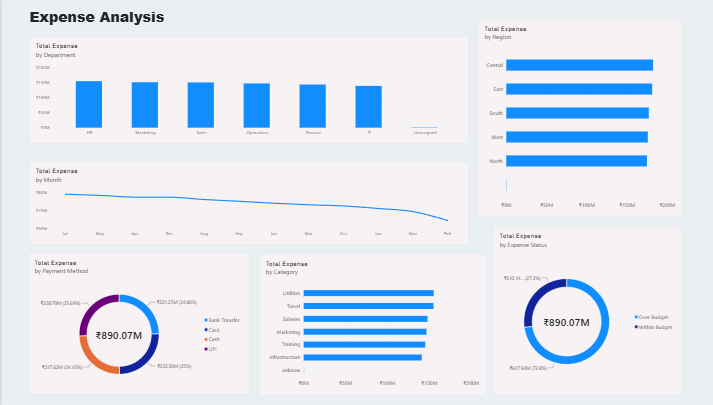

Layout of this report page (visuals, bound fields, positions):
{"tool":"powerbi","page":{"name":"Page 2","canvas":[1900,1080],"ordinal":1},"visuals":[{"type":"textbox","box":[10.3,0,279.9,98.8],"z":0},{"type":"textbox","box":[74,18,1846,154],"z":1000},{"type":"barChart","fields":{"Category":["Financial_Expenses.Category"],"Y":["Financial_Expenses.Total Expense"]},"box":[688,676,604,378],"z":2000},{"type":"columnChart","fields":{"Category":["Financial_Expenses.Department"],"Y":["Financial_Expenses.Total Expense"]},"box":[74,96,1170,286],"z":3000},{"type":"barChart","fields":{"Category":["Financial_Expenses.Region"],"Y":["Financial_Expenses.Total Expense"]},"box":[1270,50,544,530],"z":4000},{"type":"donutChart","fields":{"Series":["Financial_Expenses.Payment Method"],"Y":["Financial_Expenses.Total Expense"]},"box":[70,674,590,378],"z":5000},{"type":"lineChart","fields":{"Category":["DateTable.Month"],"Y":["Financial_Expenses.Total Expense"]},"box":[74,430,1170,222],"z":6000},{"type":"donutChart","fields":{"Category":["Financial_Expenses.Expense Status"],"Y":["Financial_Expenses.Total Expense"]},"box":[1310,602,504,450],"z":7000}]}

Visuals, with their boxes in screenshot pixels (x1, y1, x2, y2), scaled from the page's 1900x1080 canvas onto the 713x405 screenshot:
textbox: [left=4, top=0, right=109, bottom=37]
textbox: [left=28, top=7, right=712, bottom=64]
barChart - Financial_Expenses.Category x Financial_Expenses.Total Expense: [left=258, top=254, right=485, bottom=395]
columnChart - Financial_Expenses.Department x Financial_Expenses.Total Expense: [left=28, top=36, right=467, bottom=143]
barChart - Financial_Expenses.Region x Financial_Expenses.Total Expense: [left=477, top=19, right=681, bottom=218]
donutChart - Financial_Expenses.Payment Method x Financial_Expenses.Total Expense: [left=26, top=253, right=248, bottom=394]
lineChart - DateTable.Month x Financial_Expenses.Total Expense: [left=28, top=161, right=467, bottom=244]
donutChart - Financial_Expenses.Expense Status x Financial_Expenses.Total Expense: [left=492, top=226, right=681, bottom=394]
